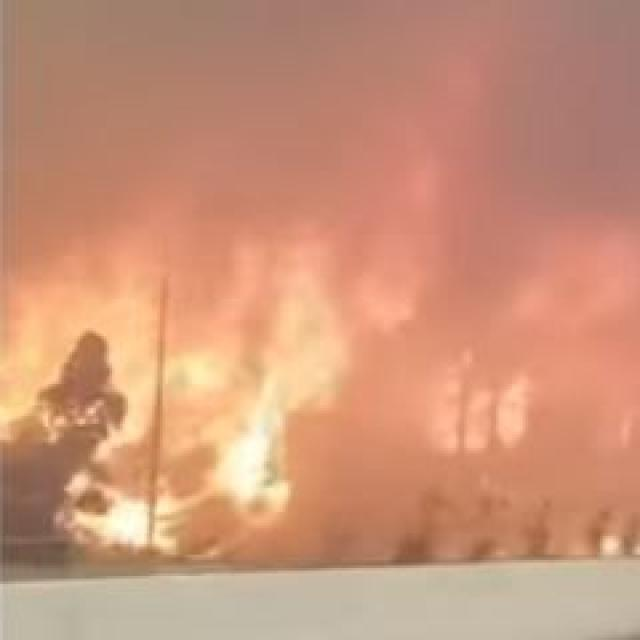Fire: (0, 275, 314, 519), (84, 214, 415, 348), (427, 361, 536, 458)
Smoke: (8, 13, 309, 188), (466, 43, 637, 235)
